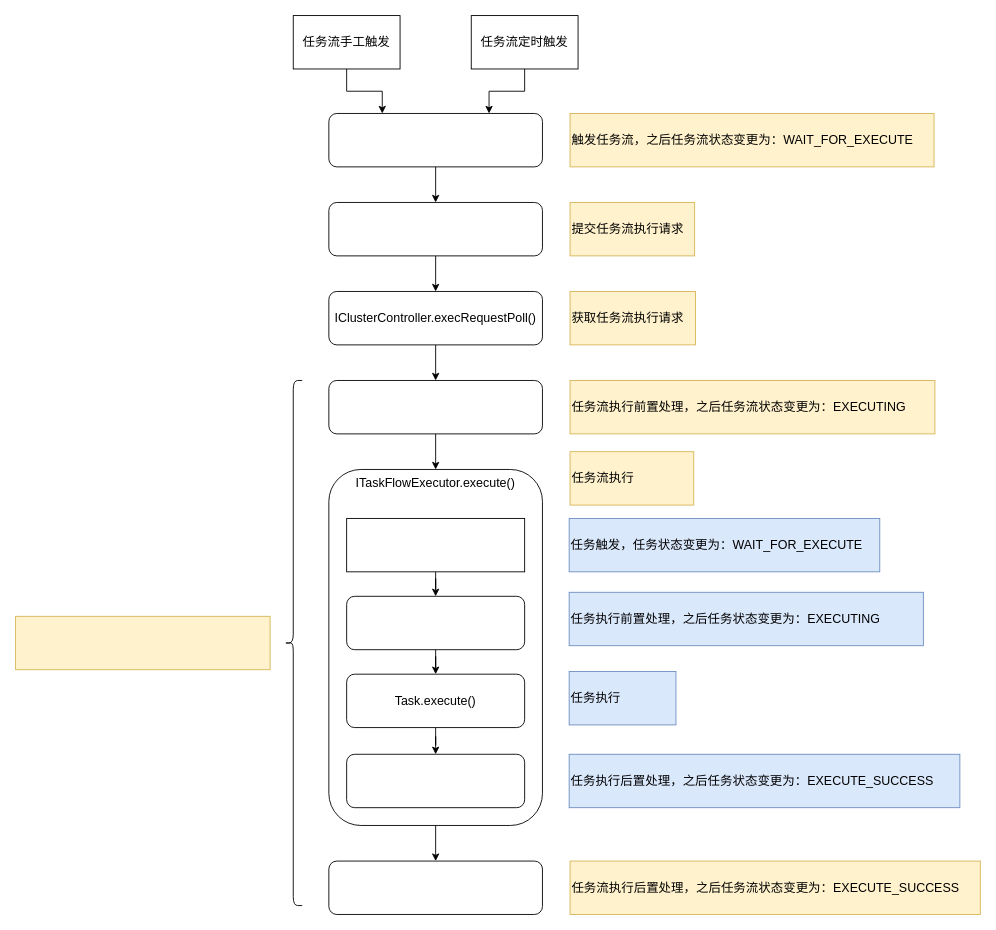
This 996x930 diagram has some shape labels left out. The box of each missing label's shape, as (x1, y1, x2, y2) in pixels:
IClusterController.execRequestOffer(): (328, 202, 542, 256)
ITaskFlowExecutor.afterExecute(): (328, 860, 542, 914)
ITaskFlowExecutor.beforeExecute(): (328, 380, 542, 434)
ITaskFlowScheduler.trigger(): (328, 113, 542, 167)
Task.afterExecute(): (346, 753, 525, 808)
Task.beforeExecute(): (346, 595, 525, 650)
任一步骤执行异常， 则任务流状态变更为：EXECUTE_FAILURE: (15, 615, 270, 670)
解析任务流，触发任务: (346, 518, 525, 572)
